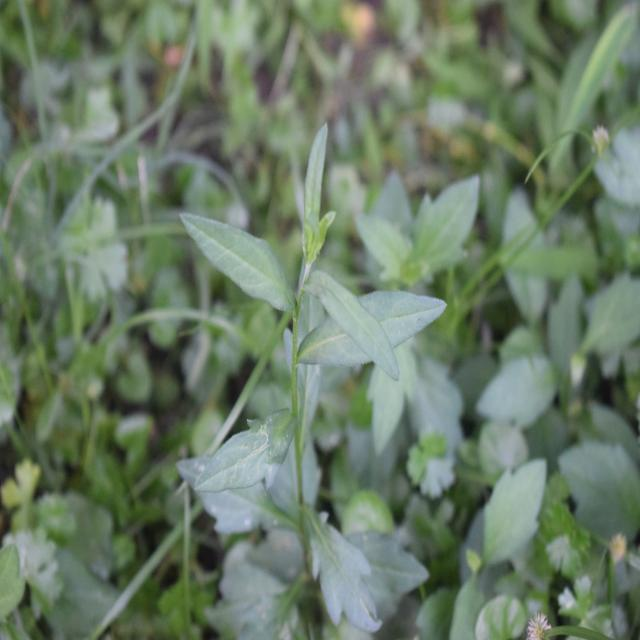Indian aster: (188, 138, 428, 598)
